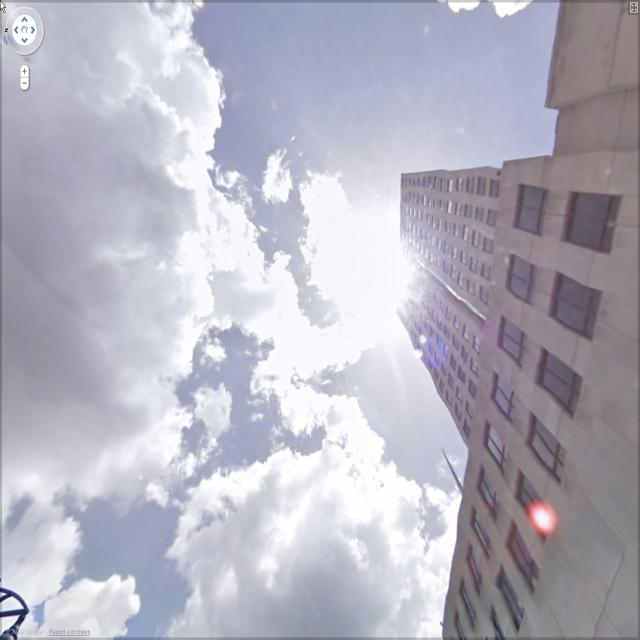b_1: (432, 166, 640, 633), (396, 170, 490, 413)
